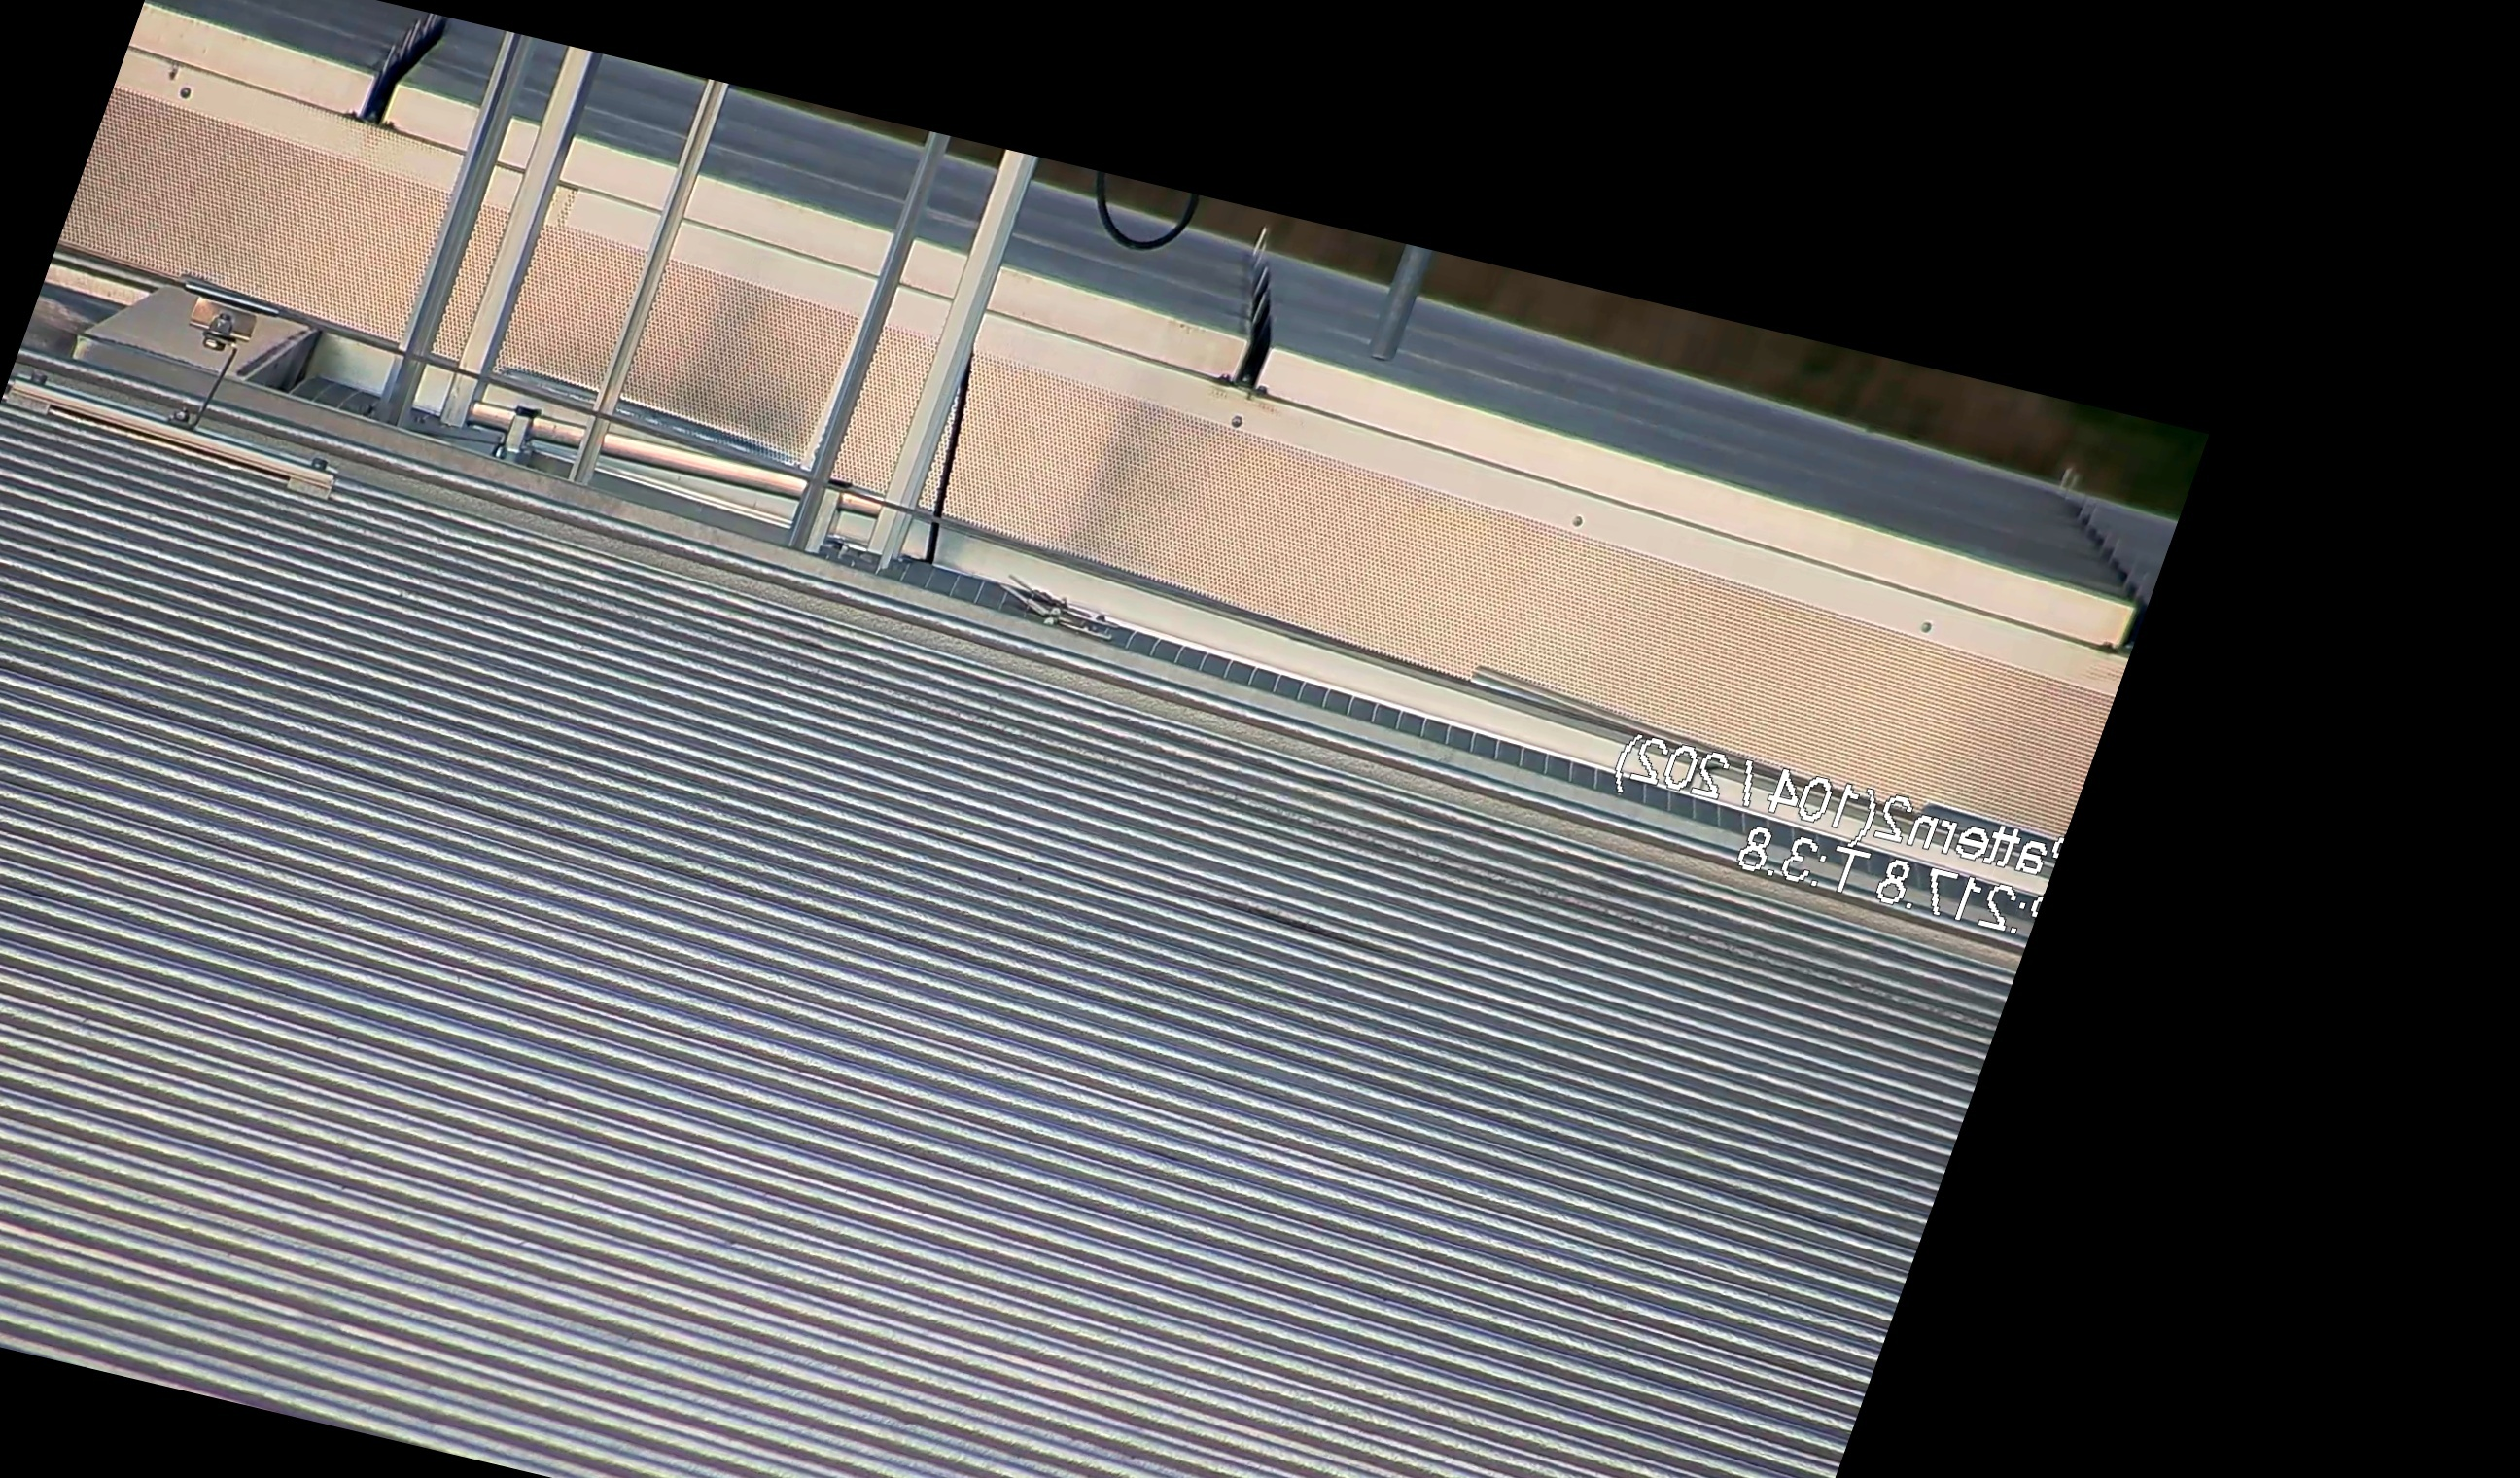Other: (329, 0, 462, 143)
